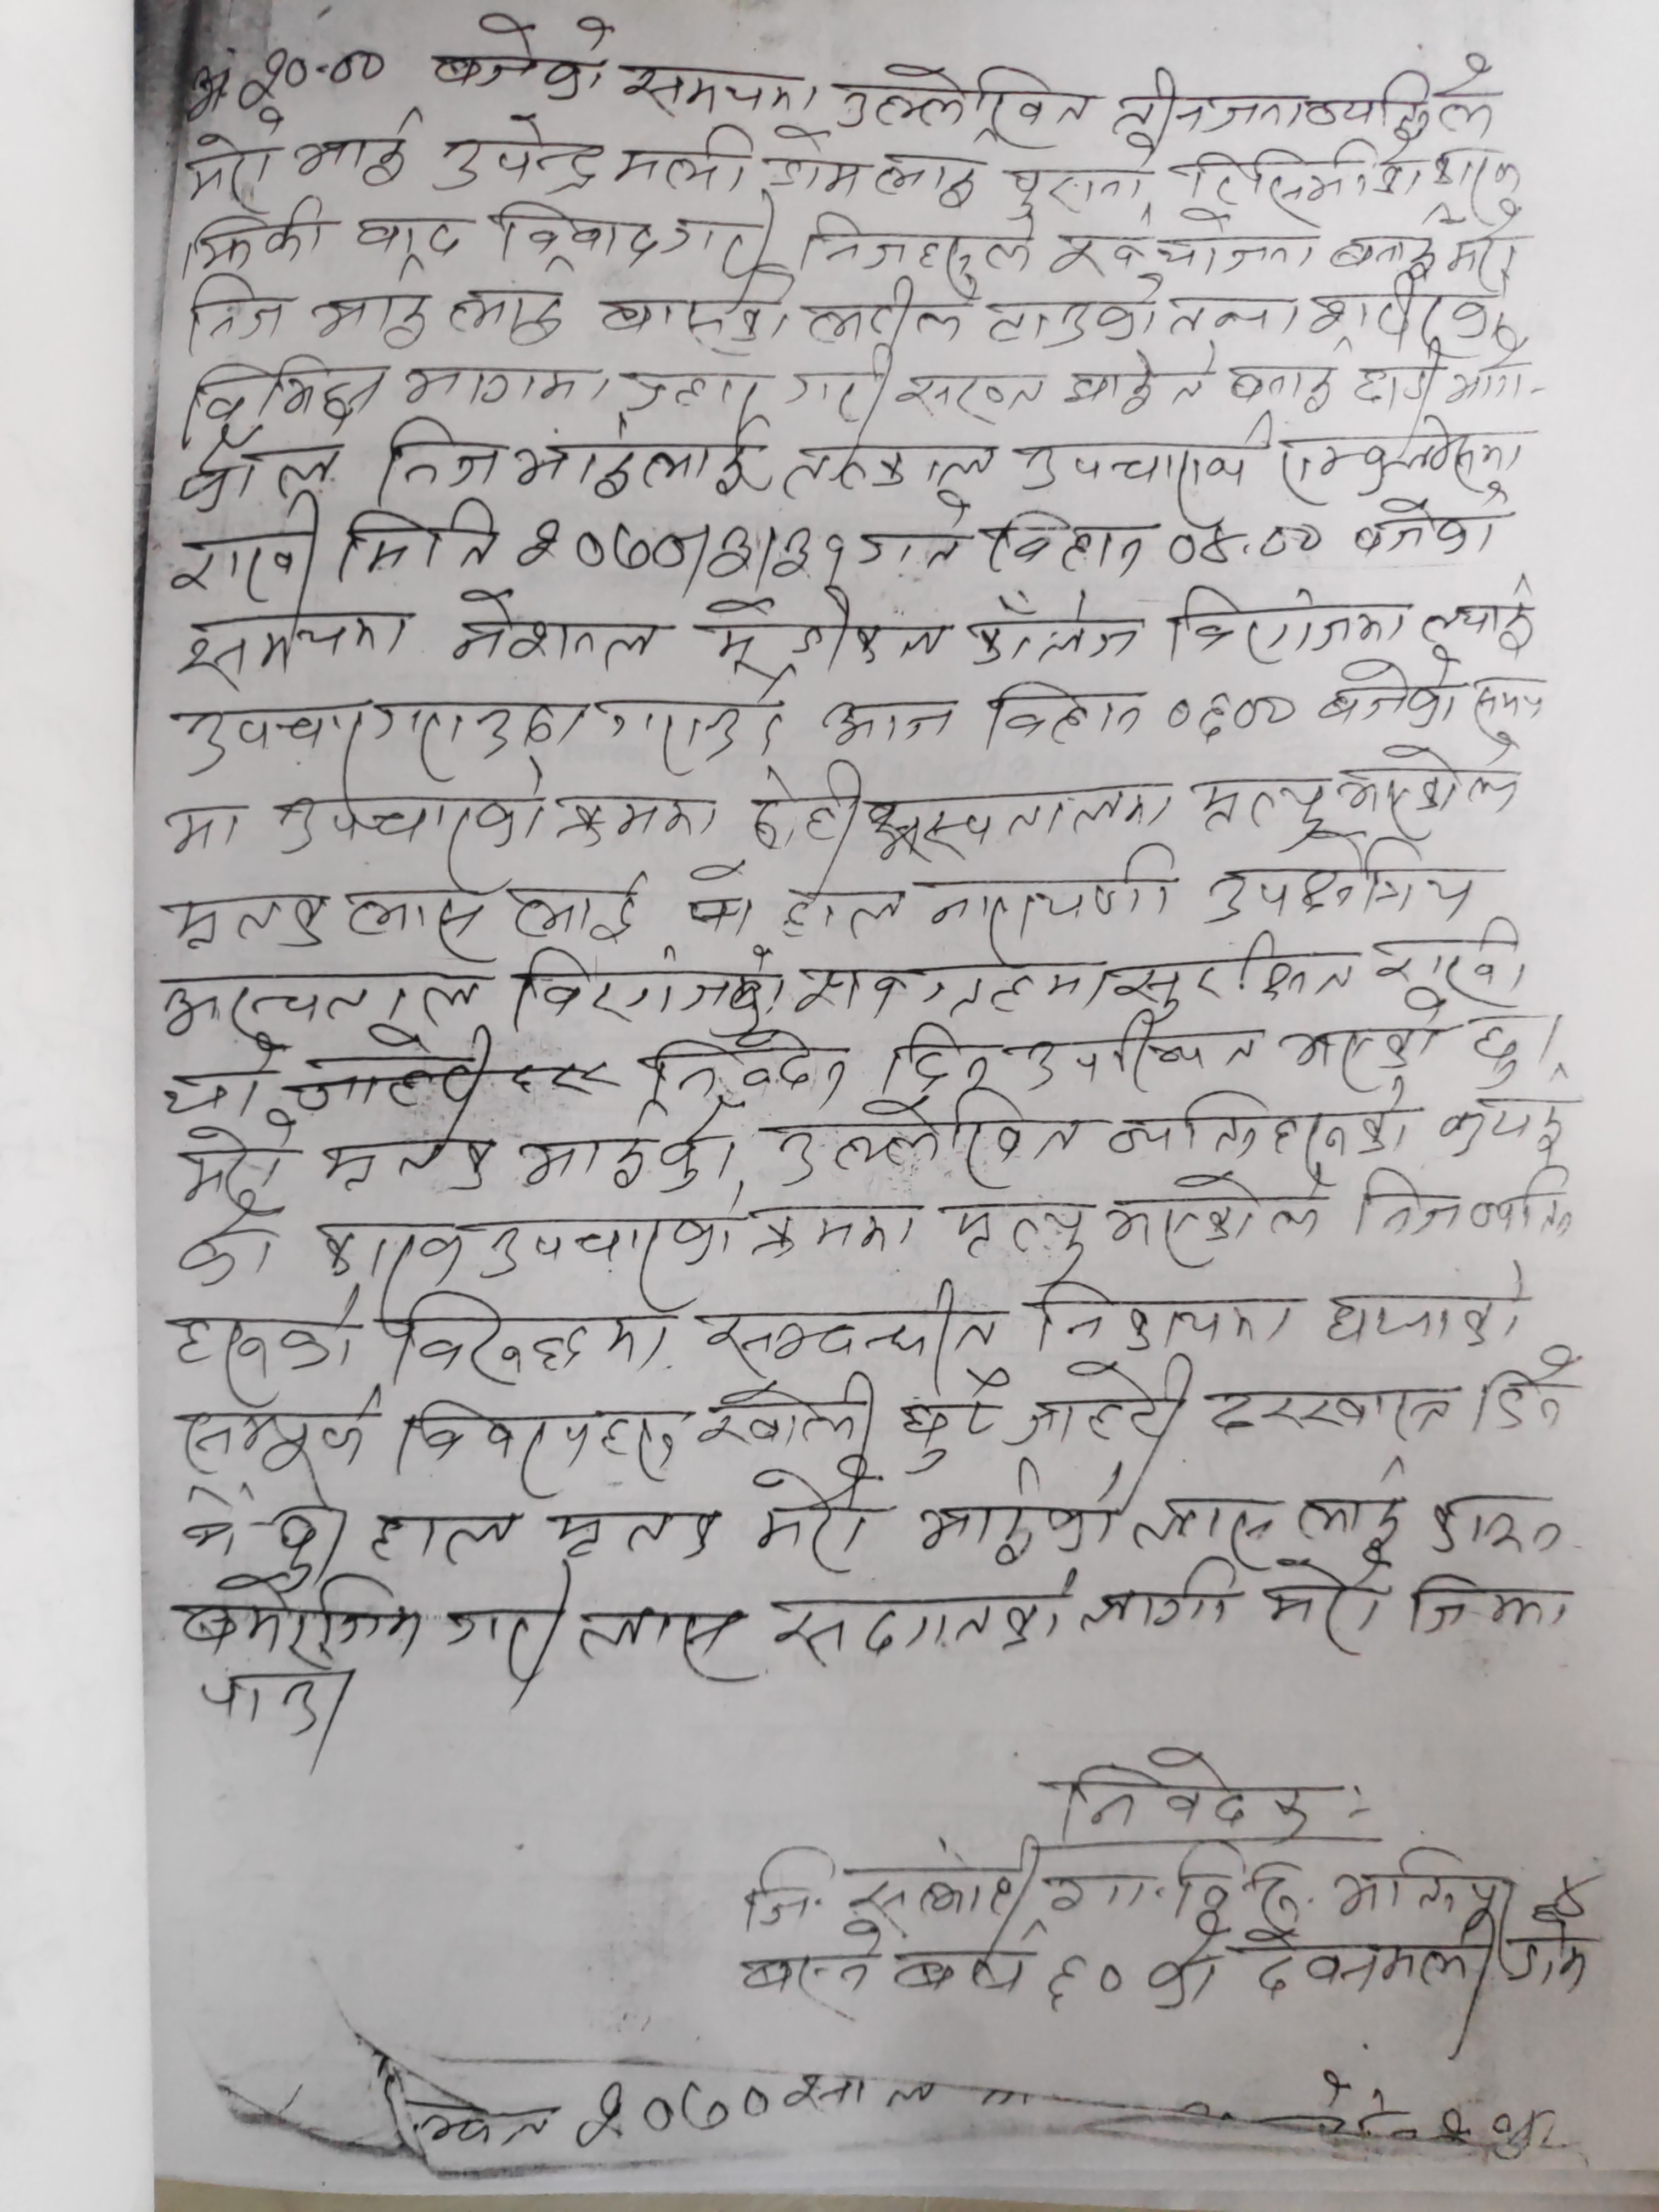text: (769, 1087, 1086, 1193), (1246, 1911, 1502, 2033), (390, 1395, 688, 1498), (769, 1566, 1073, 1665), (275, 763, 547, 873), (866, 777, 1175, 867), (373, 1291, 671, 1383), (699, 1278, 1002, 1369), (730, 1838, 1042, 1925), (1105, 1085, 1417, 1169), (917, 845, 1178, 944), (509, 944, 782, 1036), (1051, 1743, 1324, 1836), (1199, 838, 1480, 925), (514, 510, 852, 580), (152, 958, 479, 1029), (690, 580, 953, 669), (795, 939, 1105, 1014), (509, 408, 746, 505), (171, 1568, 425, 1656), (1107, 927, 1359, 1015), (1105, 1167, 1316, 1271), (483, 1211, 734, 1298), (1012, 418, 1272, 502), (169, 1289, 362, 1400), (594, 662, 784, 775), (915, 1465, 1127, 1564), (1033, 1278, 1307, 1355), (509, 1103, 737, 1193), (762, 122, 999, 209), (1053, 1843, 1316, 1921), (1164, 575, 1405, 660), (835, 59, 1089, 139), (1014, 1008, 1269, 1089), (1276, 411, 1527, 491), (1006, 1353, 1195, 1454), (1324, 1258, 1530, 1350), (598, 266, 795, 361), (802, 207, 1044, 282), (1054, 207, 1321, 275), (448, 583, 653, 671), (429, 9, 615, 105), (369, 688, 587, 770), (173, 608, 413, 681), (1208, 1376, 1453, 1447), (162, 498, 321, 608), (1333, 738, 1521, 831), (166, 697, 369, 780), (1185, 132, 1425, 202), (443, 1566, 570, 1696), (1304, 49, 1500, 132), (697, 1369, 882, 1458), (573, 1604, 756, 1693), (1304, 265, 1513, 341), (185, 352, 380, 428), (962, 589, 1147, 669), (746, 1460, 877, 1573), (181, 1407, 369, 1486), (1331, 1846, 1520, 1925), (640, 1029, 845, 1099), (1110, 64, 1305, 138), (1258, 1552, 1394, 1655), (979, 272, 1161, 348), (573, 2081, 772, 2149), (1286, 991, 1438, 1080), (775, 435, 1000, 495), (735, 1918, 885, 2006), (340, 500, 505, 580), (434, 115, 603, 192), (619, 54, 819, 118), (1079, 1555, 1243, 1634), (802, 273, 979, 345), (199, 1642, 331, 1738), (338, 881, 490, 965), (979, 679, 1147, 754), (983, 507, 1147, 582), (314, 1211, 469, 1289), (1061, 341, 1223, 416), (1006, 136, 1154, 218), (1371, 914, 1528, 991), (939, 1195, 1089, 1275), (1314, 648, 1462, 728), (371, 413, 504, 502), (174, 430, 340, 500), (1413, 1566, 1574, 1637), (505, 869, 653, 946), (167, 887, 331, 954), (1431, 1489, 1579, 1564), (394, 361, 613, 411), (488, 197, 657, 261), (1192, 768, 1324, 850), (544, 1503, 721, 1564), (291, 108, 420, 192), (753, 1198, 920, 1263), (1293, 1463, 1419, 1548), (662, 195, 775, 289), (155, 1035, 279, 1120), (901, 1369, 997, 1479), (1436, 1087, 1575, 1162), (1133, 1491, 1284, 1559), (366, 1507, 525, 1571), (613, 120, 753, 193), (1351, 495, 1500, 563), (1473, 1348, 1581, 1442), (181, 202, 326, 272), (861, 488, 969, 580), (556, 789, 723, 848), (234, 44, 390, 106), (1420, 573, 1547, 650), (314, 1141, 491, 1195), (173, 1120, 286, 1204), (786, 343, 896, 428), (890, 1933, 1032, 2000), (894, 368, 1046, 428), (1347, 1167, 1464, 1245), (1466, 1165, 1581, 1244), (446, 277, 572, 348), (174, 1204, 277, 1291), (307, 284, 439, 350), (1143, 1916, 1232, 2012), (1166, 685, 1300, 745), (615, 364, 765, 418), (775, 881, 904, 944), (1507, 1909, 1598, 1998), (1164, 519, 1328, 568), (1164, 284, 1302, 341), (824, 693, 955, 751), (885, 1017, 992, 1087), (185, 273, 288, 341), (1351, 338, 1445, 409), (1227, 354, 1338, 413), (183, 131, 274, 202), (1425, 136, 1525, 197), (1467, 667, 1553, 737), (803, 758, 866, 852), (1046, 1944, 1126, 2013), (350, 212, 464, 261), (1446, 340, 1532, 404), (1452, 202, 1525, 277), (1328, 226, 1441, 272), (162, 799, 242, 859), (1467, 1010, 1523, 1092), (751, 768, 795, 860), (1553, 1872, 1603, 1918)
